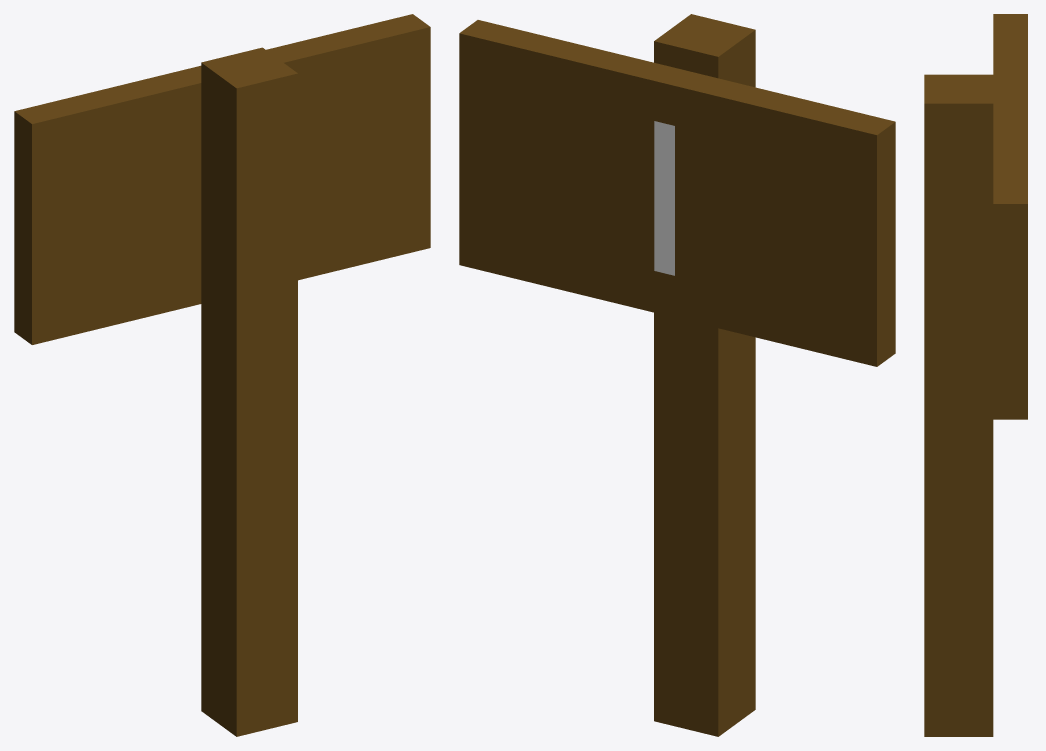
The model's file is Planknomor1.fbx.
3 renders of one model, left to right at view 1: azimuth 30°, elevation 25°; view 2: azimuth 150°, elevation 25°; view 3: azimuth 270°, elevation 25°, orthographic. The views are drawn at different scales.
Parts seen in each view (by area): view 1: Cube.001; view 2: Cube.001, Text; view 3: Cube.001.
Part boxes in pixels (x1,y1,x2,y2): Cube.001: [14, 14, 430, 736]; Cube.001: [459, 14, 895, 736]; Text: [654, 121, 674, 275]; Cube.001: [924, 14, 1027, 736].
Bounding box in the file's own units: 199 × 309 × 47.66.
